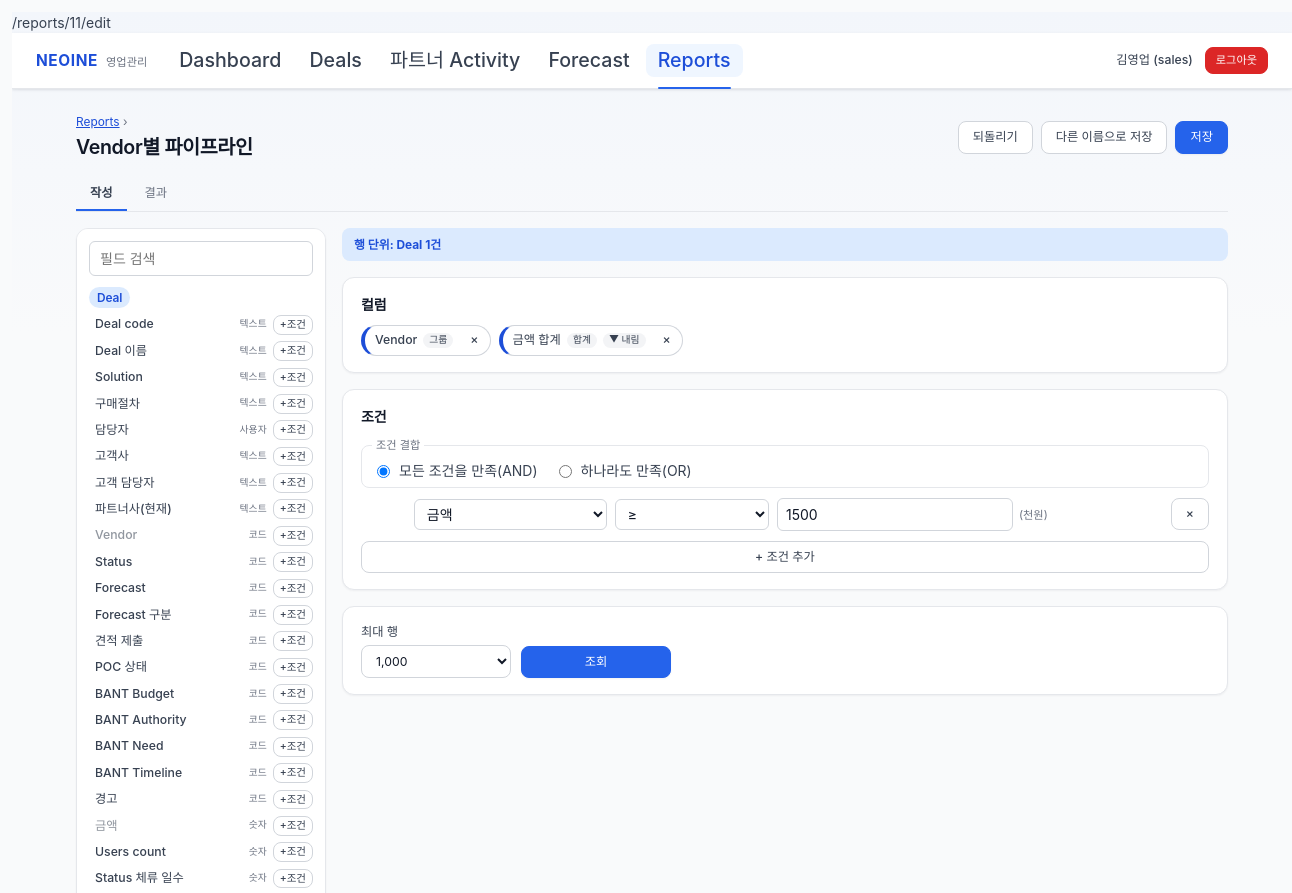
편집 화면의 탭 (작성/결과 탭 분리 AC7) › opens on the design tab and fills the result tab with the automatic run without moving there
Expected: the table "조회 결과" is not shown
Click the tab "결과".
click(156, 194)  # box [130,178,181,211]
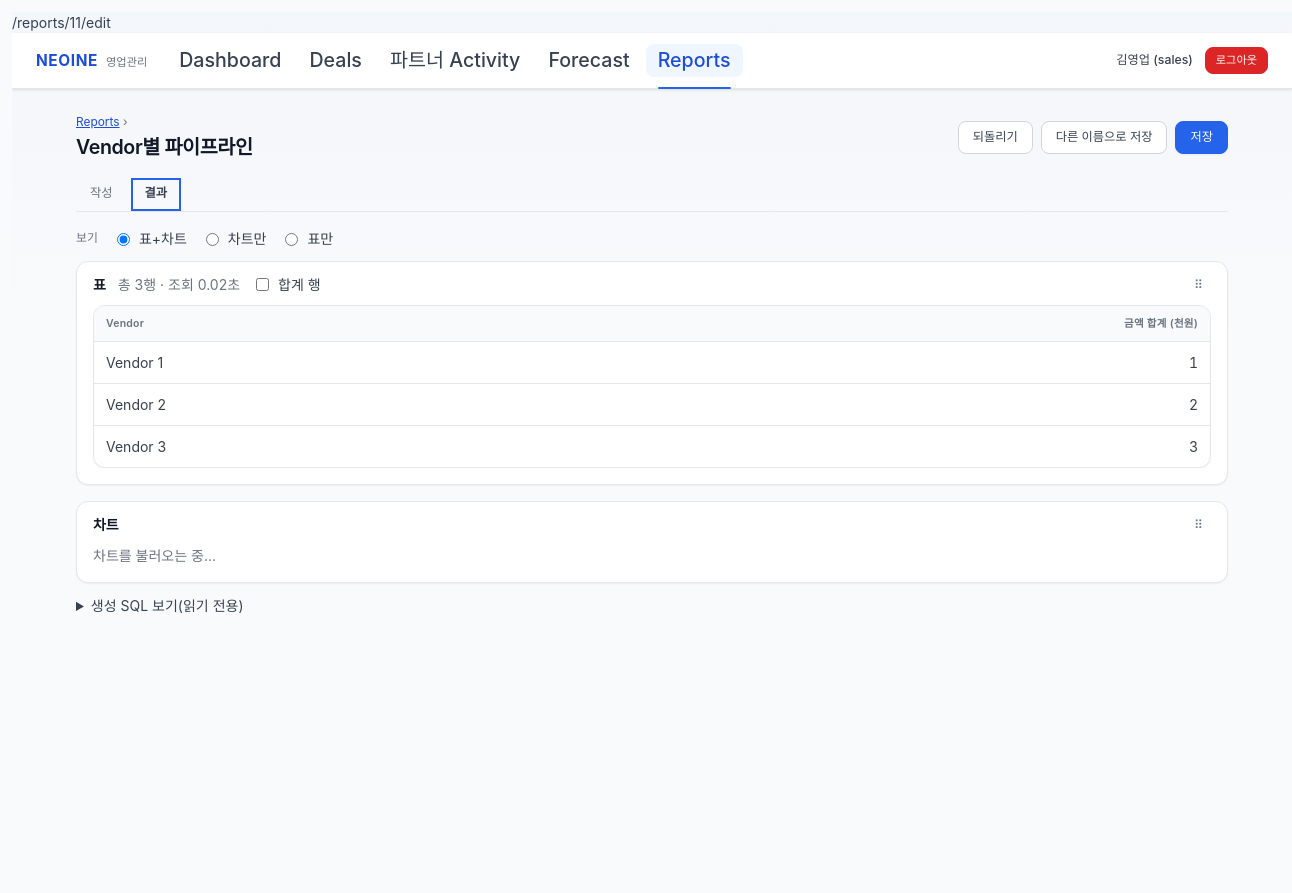
Result: the table named "조회 결과" is shown at [93,305,1211,468]
